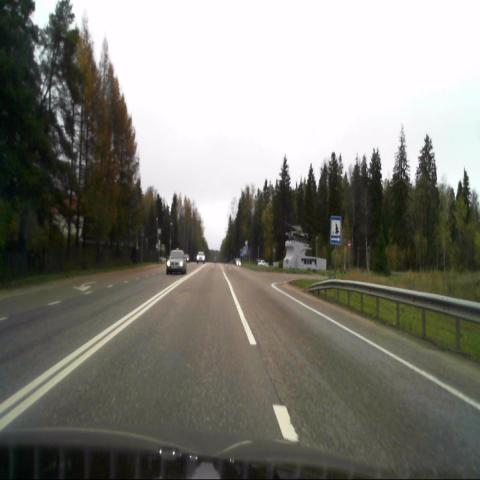7_11: (330, 216, 342, 245)
